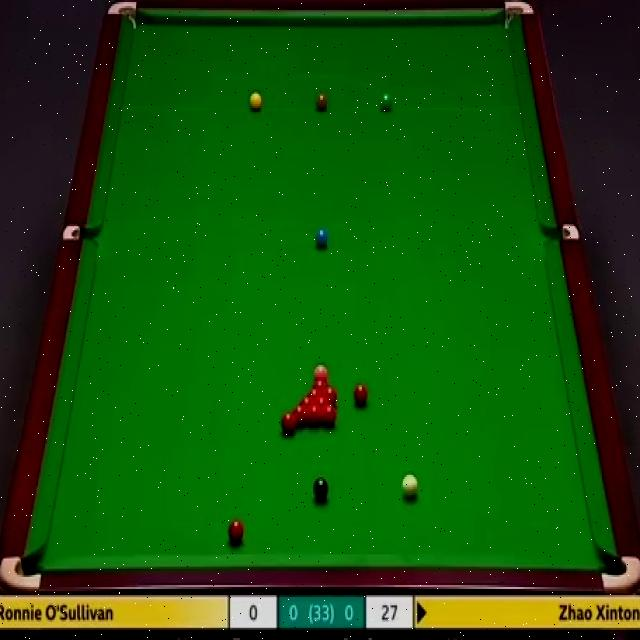black-ball: (312, 477, 329, 503)
blue-ball: (312, 226, 327, 249)
brown-ball: (317, 92, 329, 112)
green-ball: (379, 91, 392, 112)
pink-ball: (312, 363, 329, 378)
red-ball: (228, 519, 244, 547), (292, 404, 308, 426), (353, 382, 368, 405), (322, 405, 337, 428), (280, 412, 295, 434), (307, 405, 322, 426), (323, 385, 338, 404), (300, 396, 316, 408), (315, 396, 331, 408), (307, 387, 323, 399), (311, 378, 329, 388)
white-ball: (402, 473, 418, 499)
yellow-ball: (249, 92, 262, 112)
